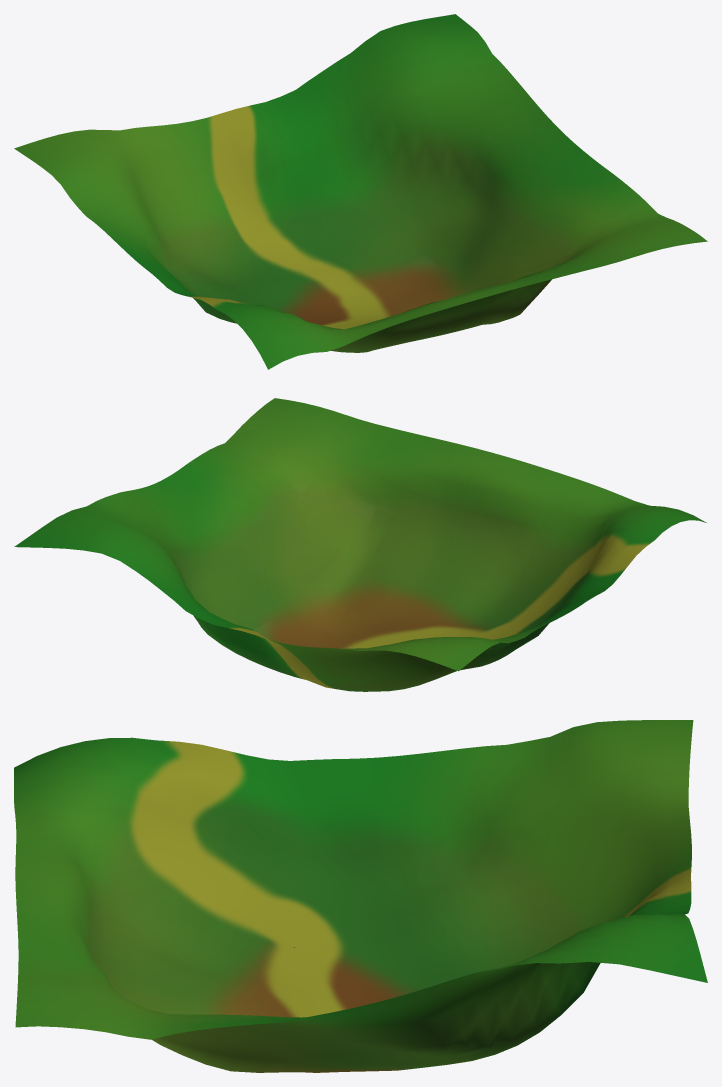
The model's file is terrain.obj.
3 renders of one model, top to bottom at view 1: azimuth 30°, elevation 25°; view 2: azimuth 150°, elevation 25°; view 3: azimuth 270°, elevation 25°, orthographic. The views are drawn at different scales.
Visible parts, largest first — view 1: Grid; view 2: Grid; view 3: Grid.
Boxes of the visible parts, x1,y1,x2,y2 form: Grid: (14,14,707,369); Grid: (14,398,706,691); Grid: (14,720,707,1072).
Size of the model in its own units: 30.34 by 10.73 by 30.51.
Materials: 1 (1 with a texture image).
